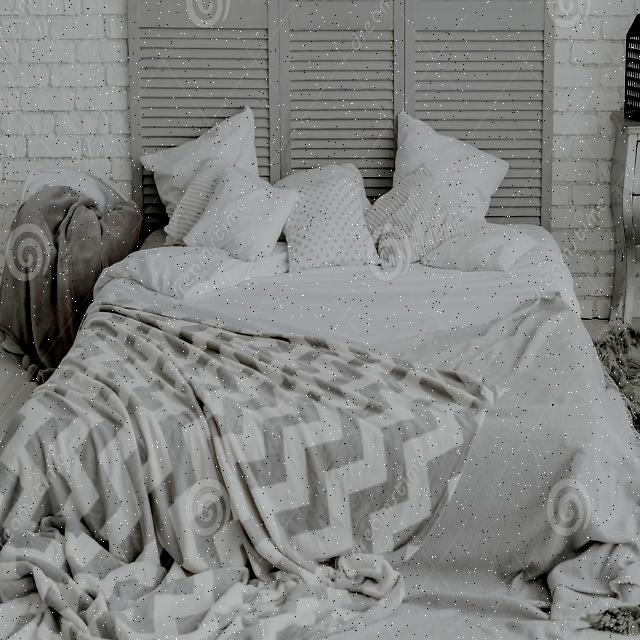bed: (7, 123, 595, 594)
